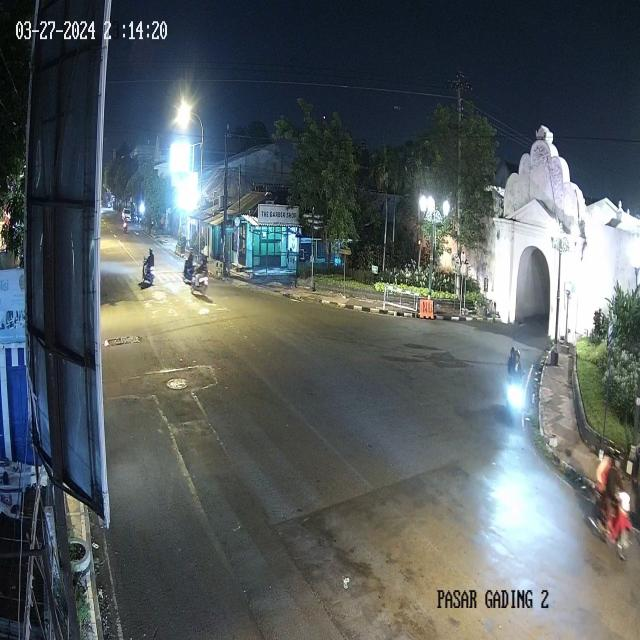motorcycle: (589, 439, 630, 558), (506, 343, 524, 425), (192, 253, 208, 295), (142, 244, 156, 285), (183, 250, 194, 280), (123, 212, 129, 232)
